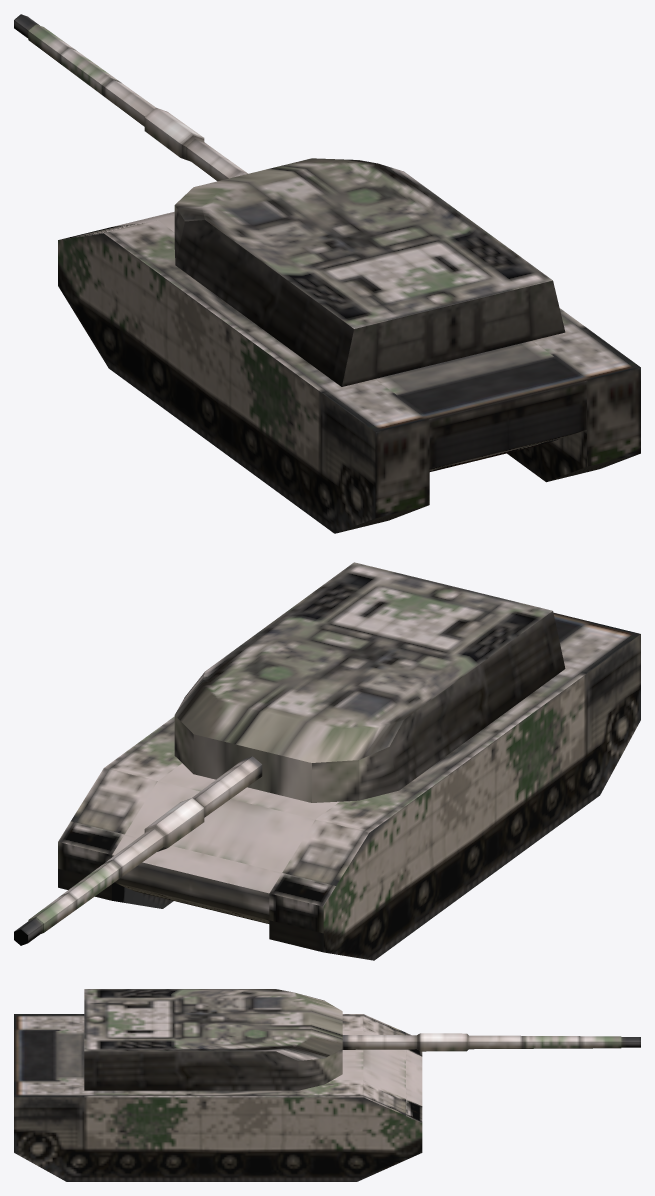
Rendered from SM_Tank2.fbx.
3 renders of one model, top to bottom at view 1: azimuth 30°, elevation 25°; view 2: azimuth 150°, elevation 25°; view 3: azimuth 270°, elevation 25°, orthographic. The views are drawn at different scales.
Visible parts, largest first — view 1: Tank2; view 2: Tank2; view 3: Tank2.
Part boxes in pixels (x1,y1,x2,y2): Tank2: (14, 14, 640, 533); Tank2: (14, 562, 640, 960); Tank2: (14, 989, 640, 1181).
Bounding box in the file's own units: 383 × 257 × 1217.
